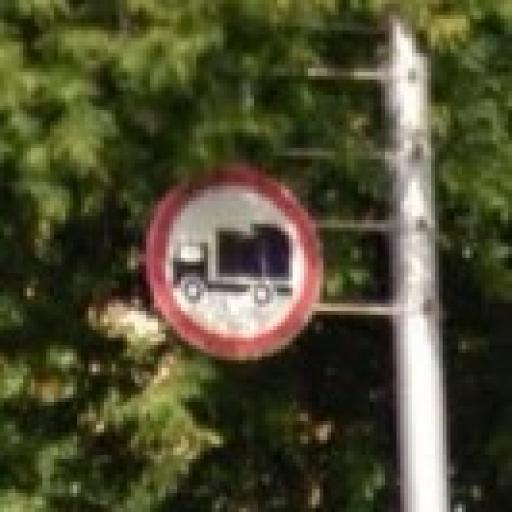traffic_sign: (144, 164, 329, 361)
